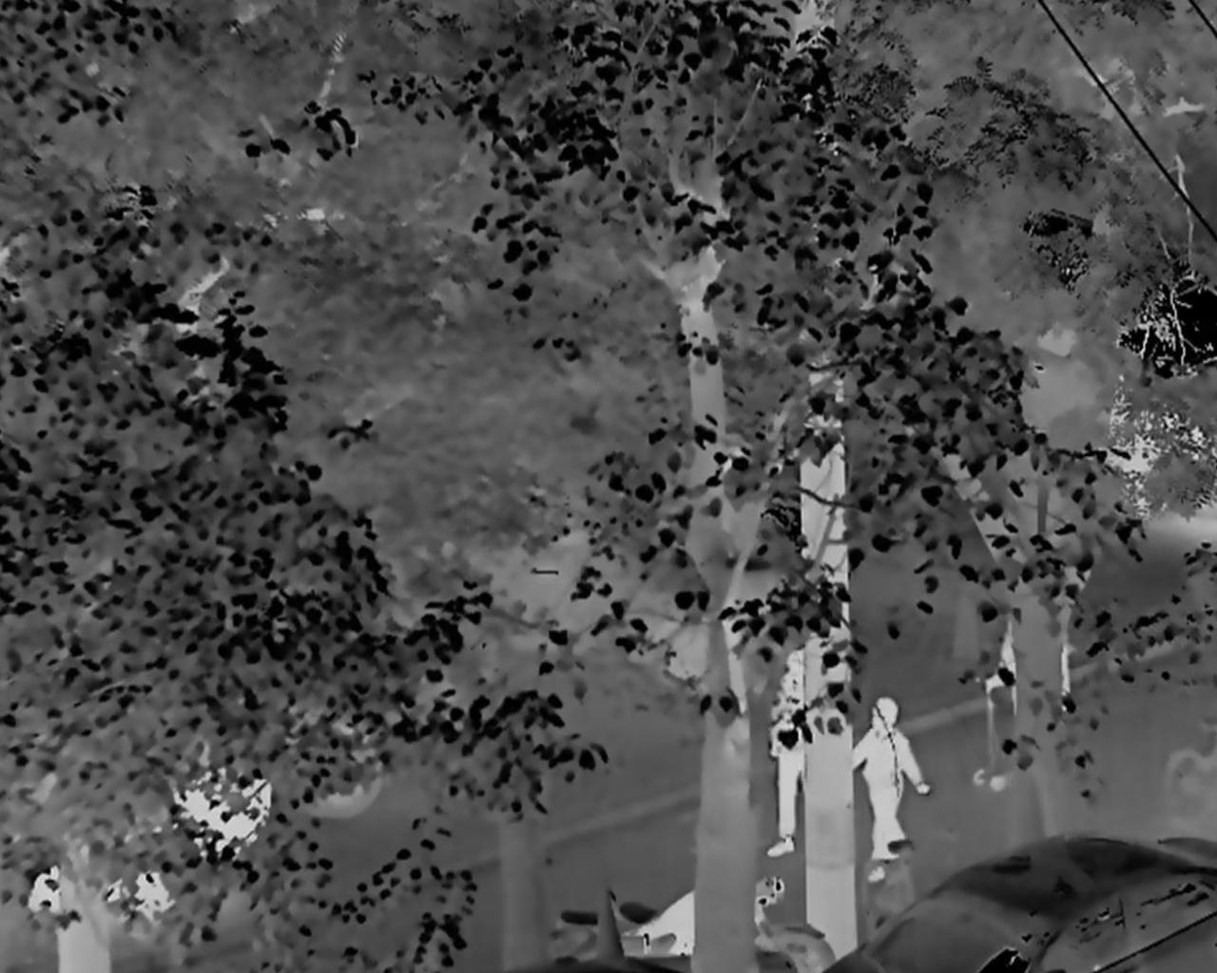person: (853, 695, 931, 885), (766, 648, 807, 856)
